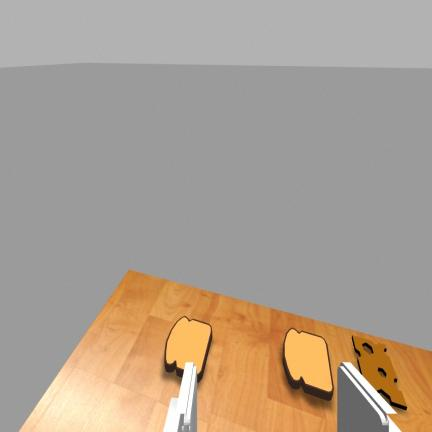cheese: (352, 336, 407, 409)
sliced_bread: (283, 328, 333, 400), (164, 317, 212, 381)
